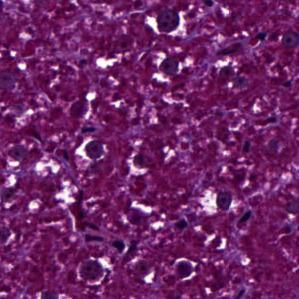inflammation: (202, 182, 239, 219), (144, 7, 184, 38), (76, 255, 112, 288), (165, 254, 202, 283), (69, 138, 110, 162), (128, 151, 153, 178)
